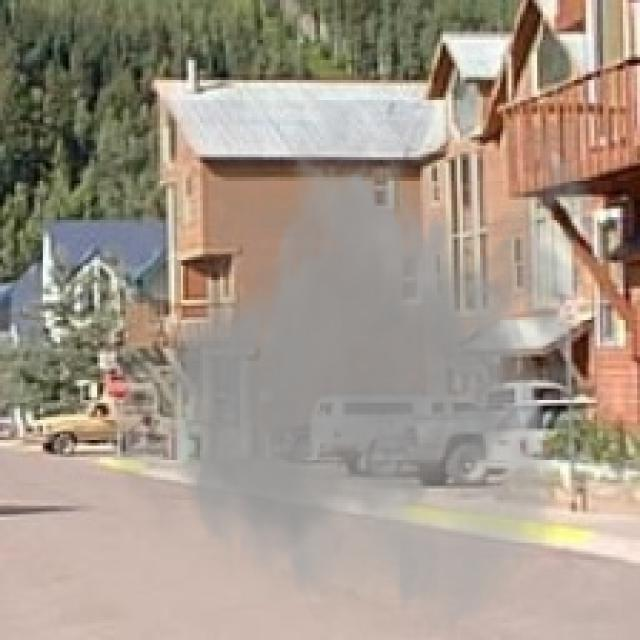Smoke: (95, 100, 614, 634)
